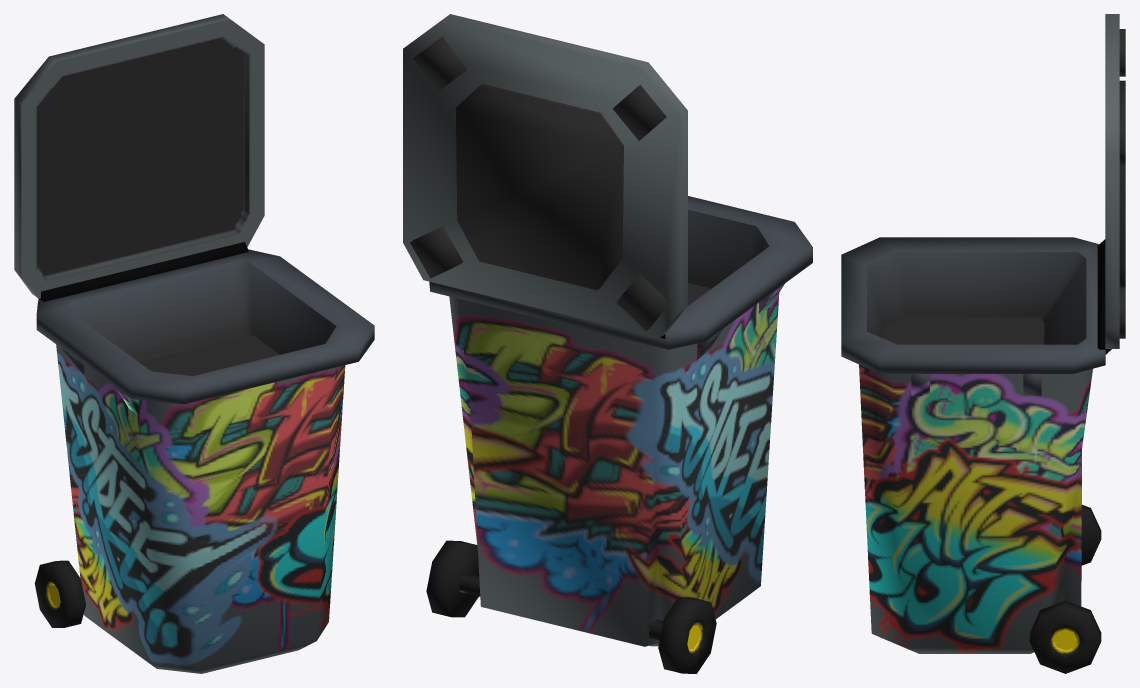
Rendered from JunkBox.fbx.
3 renders of one model, left to right at view 1: azimuth 30°, elevation 25°; view 2: azimuth 150°, elevation 25°; view 3: azimuth 270°, elevation 25°, orthographic. The views are drawn at different scales.
Visible parts, largest first — view 1: bottom, Top, Circle.005; view 2: bottom, Top, Circle.005; view 3: bottom, Top, Circle.005.
Boxes of the visible parts, <box> form: bottom: <box>36,249,374,673</box>; Top: <box>14,14,264,301</box>; Circle.005: <box>34,560,85,627</box>; bottom: <box>429,196,812,646</box>; Top: <box>403,14,687,338</box>; Circle.005: <box>426,540,716,673</box>; bottom: <box>841,237,1105,653</box>; Top: <box>1097,14,1125,354</box>; Circle.005: <box>1029,504,1101,673</box>.
Size of the model in its own units: 73.2 by 157 by 72.06.
